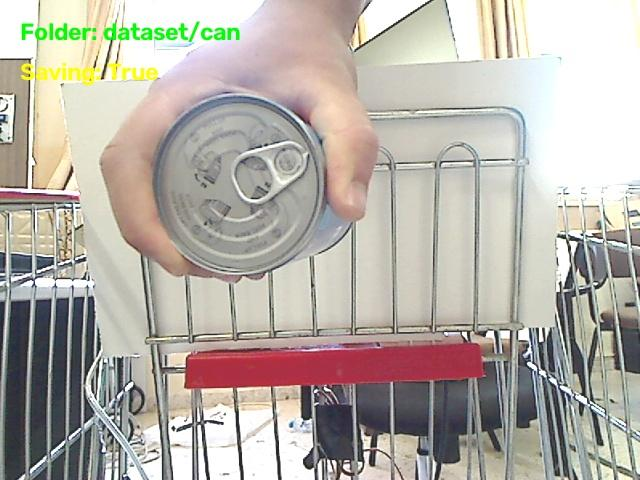can: (153, 94, 350, 274)
